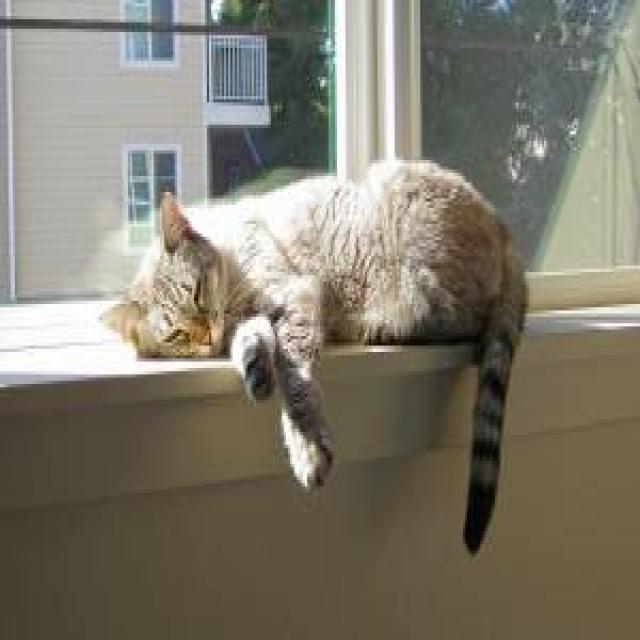Bengal: (96, 186, 226, 352)
